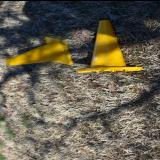cone: (75, 19, 144, 72), (5, 36, 73, 66)
